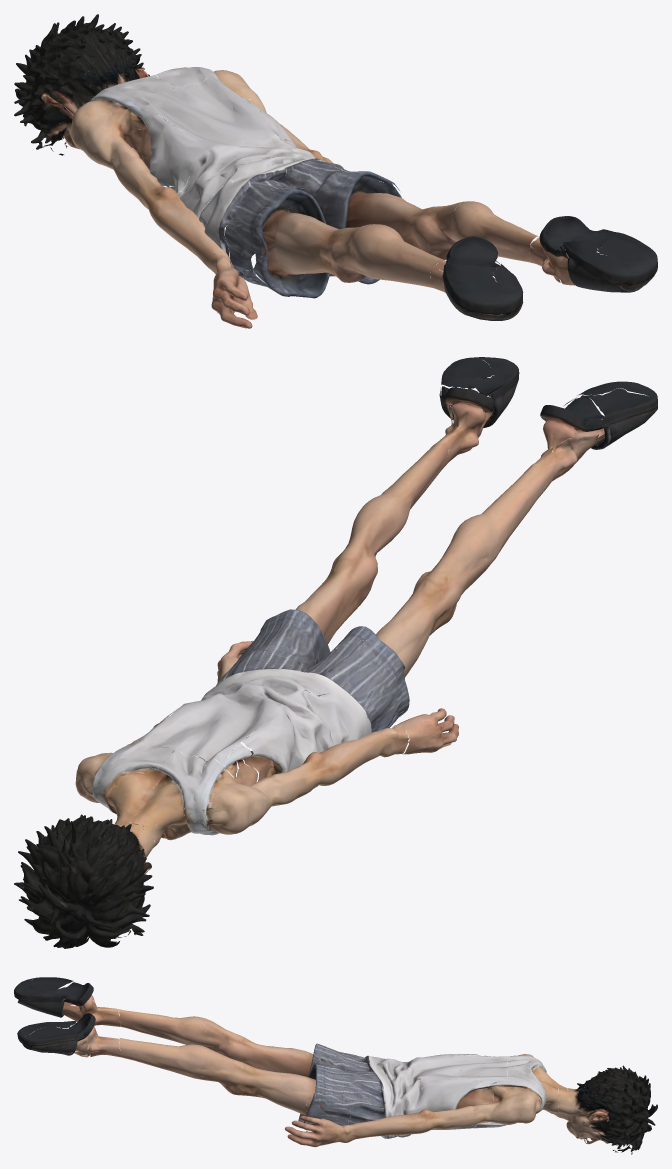
Rendered from patient14.glb.
The picture shows the model from 3 angles, top to bottom: view 1: azimuth 30°, elevation 25°; view 2: azimuth 150°, elevation 25°; view 3: azimuth 270°, elevation 25°; orthographic projection. The views are drawn at different scales.
Parts seen in each view (by area): view 1: back_patient_skin; view 2: back_patient_skin; view 3: back_patient_skin.
Part boxes in pixels (x1=…): back_patient_skin: x1=14, y1=14, x2=657, y2=328; back_patient_skin: x1=14, y1=357, x2=657, y2=948; back_patient_skin: x1=14, y1=977, x2=657, y2=1154.
Bounding box in the file's own units: 0.4538 × 0.4521 × 1.77.
Materials: 1 (1 with a texture image).
